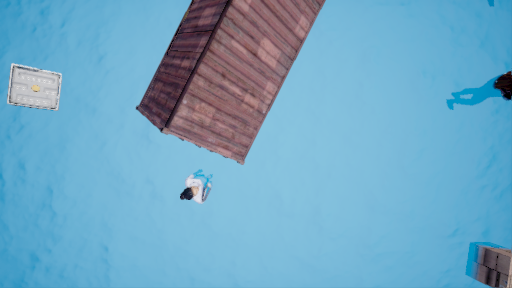person: (179, 169, 221, 209)
